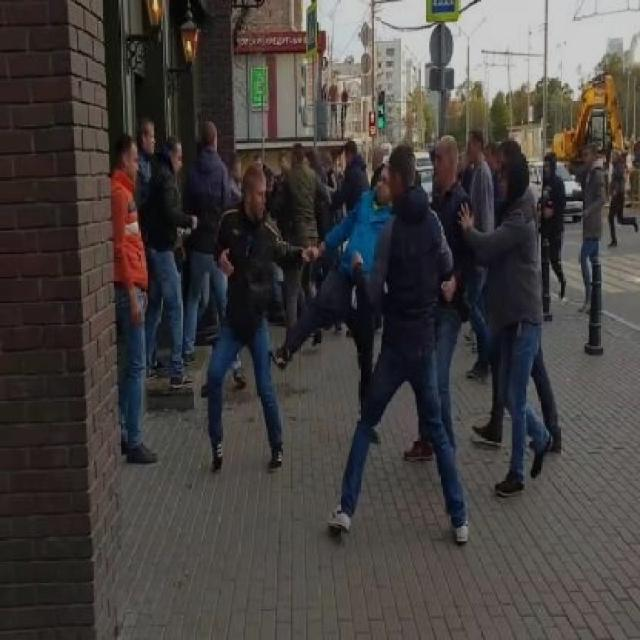fight: (197, 131, 479, 547)
non-fight: (451, 117, 560, 498), (106, 117, 186, 466), (175, 119, 240, 366), (534, 145, 571, 317), (572, 140, 604, 318), (603, 141, 640, 247)
